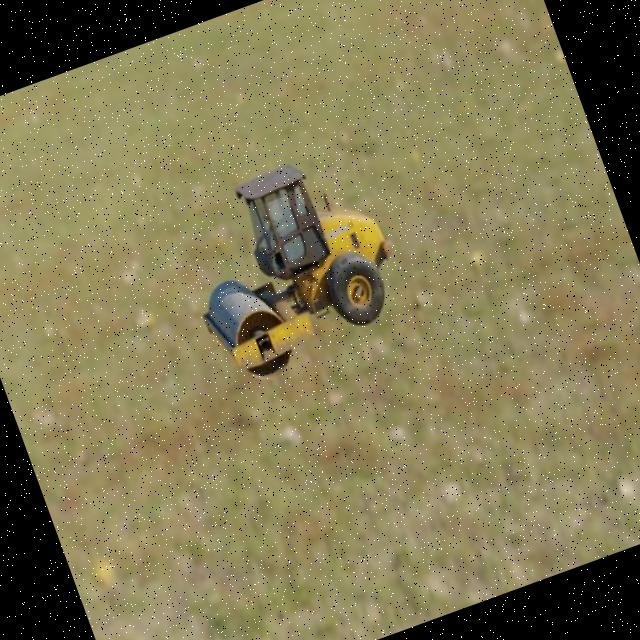Roller: (162, 139, 422, 394)
